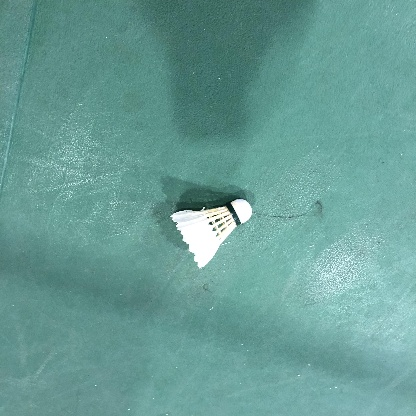ball_single: (171, 199, 252, 269)
